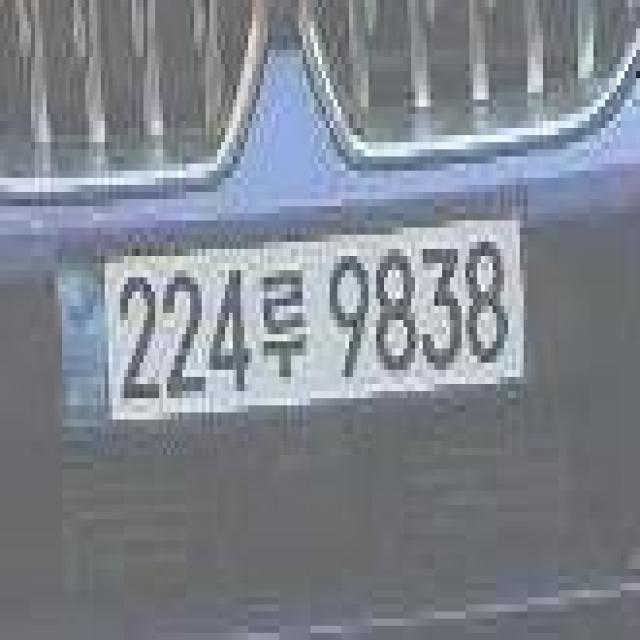illegal_plate: (54, 205, 530, 445)
